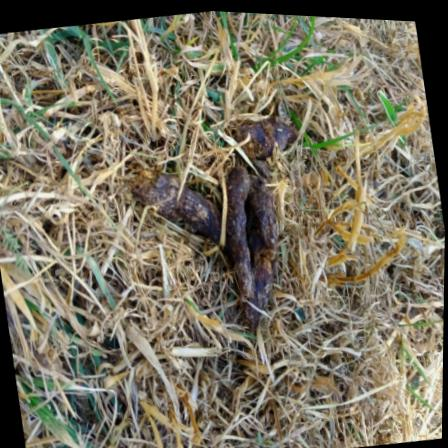dog-poop: (118, 79, 336, 355)
